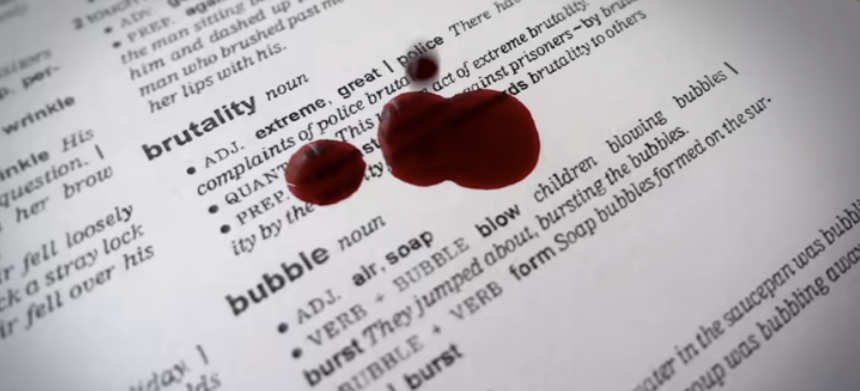blood_34.png: (262, 48, 557, 208)
